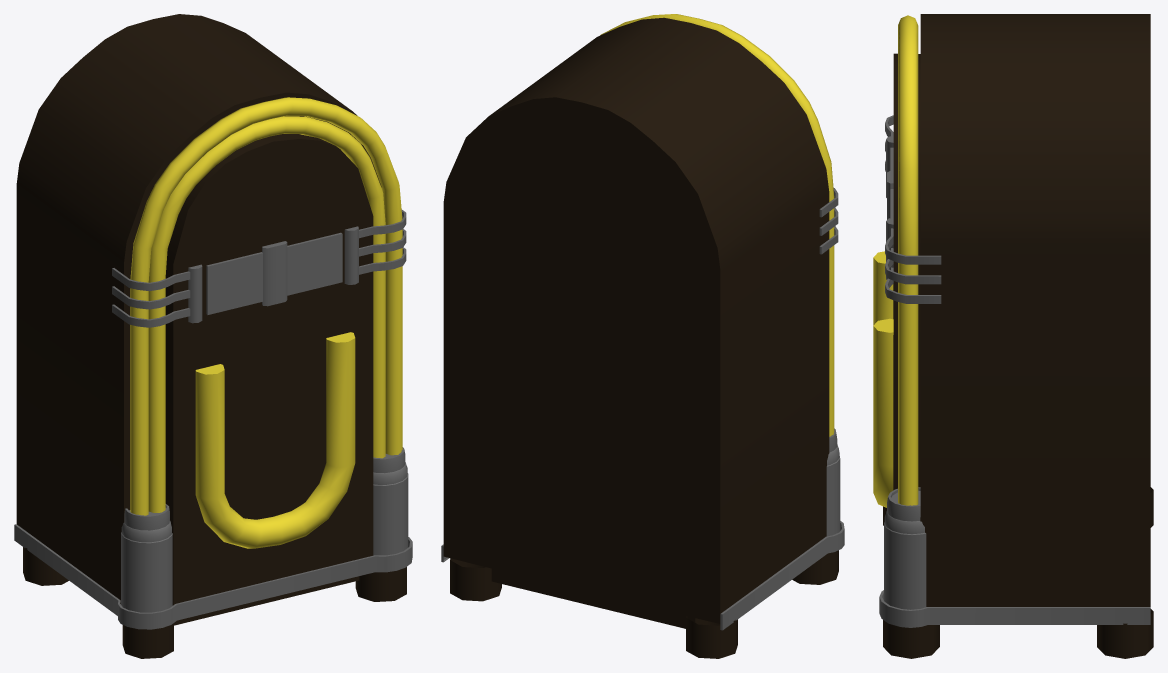
File: Jukebox.fbx
3 renders of one model, left to right at view 1: azimuth 30°, elevation 25°; view 2: azimuth 150°, elevation 25°; view 3: azimuth 270°, elevation 25°, orthographic. The views are drawn at different scales.
Visible parts, largest first — view 1: JukeBox; view 2: JukeBox; view 3: JukeBox.
Part boxes in pixels (x1,y1,x2,y2): JukeBox: [14, 14, 412, 658]; JukeBox: [441, 14, 844, 658]; JukeBox: [873, 14, 1153, 658].
Bounding box in the file's own units: 43.89 × 75.34 × 34.46.
